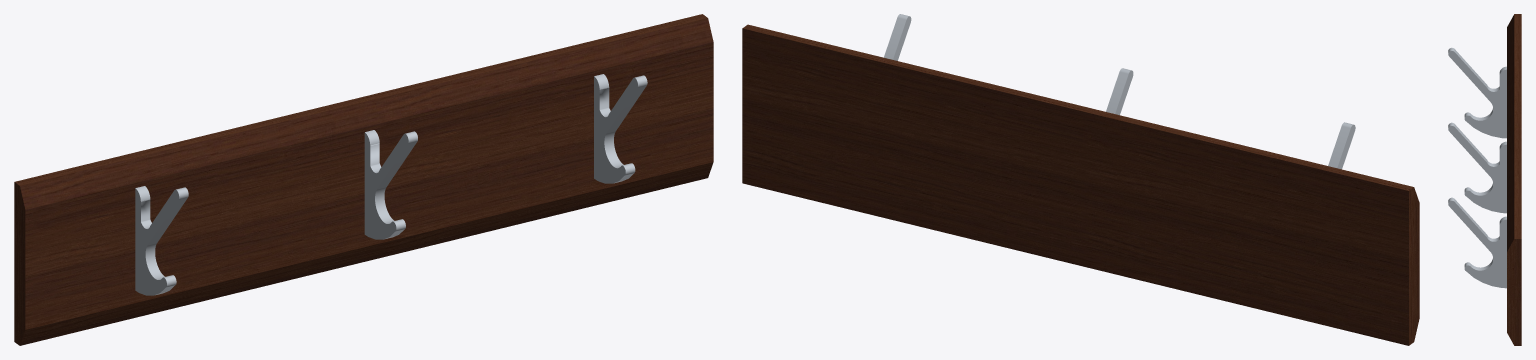
The model's file is A23DMOD_FBX.fbx.
3 renders of one model, left to right at view 1: azimuth 30°, elevation 25°; view 2: azimuth 150°, elevation 25°; view 3: azimuth 270°, elevation 25°, orthographic. The views are drawn at different scales.
Visible parts, largest first — view 1: A23D; view 2: A23D; view 3: A23D.
Part boxes in pixels (<box>): A23D: <box>14,14,713,345</box>; A23D: <box>742,14,1419,345</box>; A23D: <box>1448,14,1521,345</box>.
Size of the model in its own units: 64.7 by 14.66 by 8.94.
Materials: 2 (2 with a texture image).
